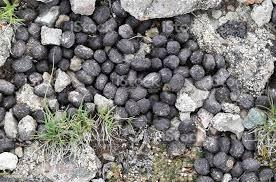Elk: (12, 18, 201, 109), (187, 138, 255, 182)
